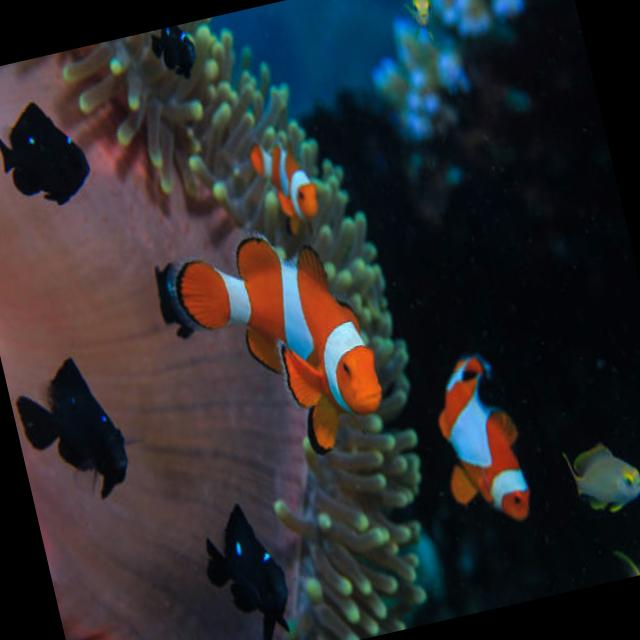ClownFish: (167, 204, 392, 476), (417, 346, 537, 540), (242, 130, 320, 228)
